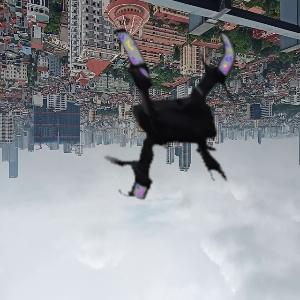drone: (66, 14, 276, 224)
